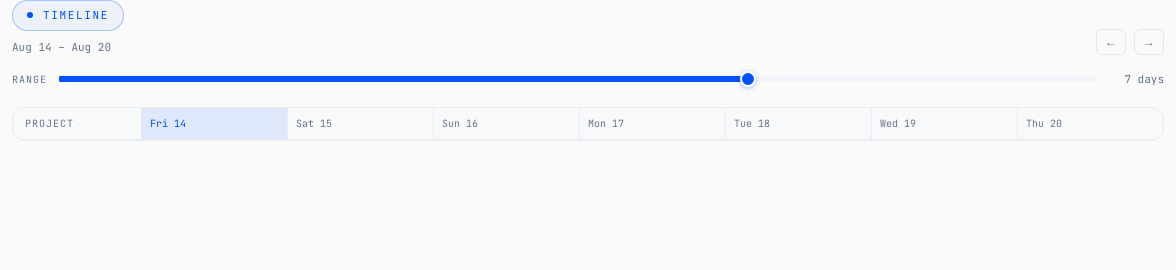
Scenario: Today dashboard timeline › renders a seven-day span and changes it with the range control
The image size is (1176, 270).
Expected: the text "7 days" is shown, [1124,72,1164,86]
Step 1. Set the slider named "Timeline range" to "0" → (67,79), box [59,67,1096,91]
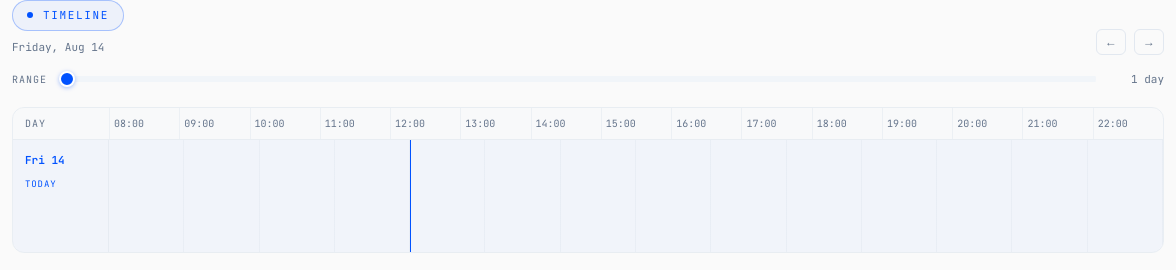
Now the text "1 day" is shown, box [1131,72,1164,86]
